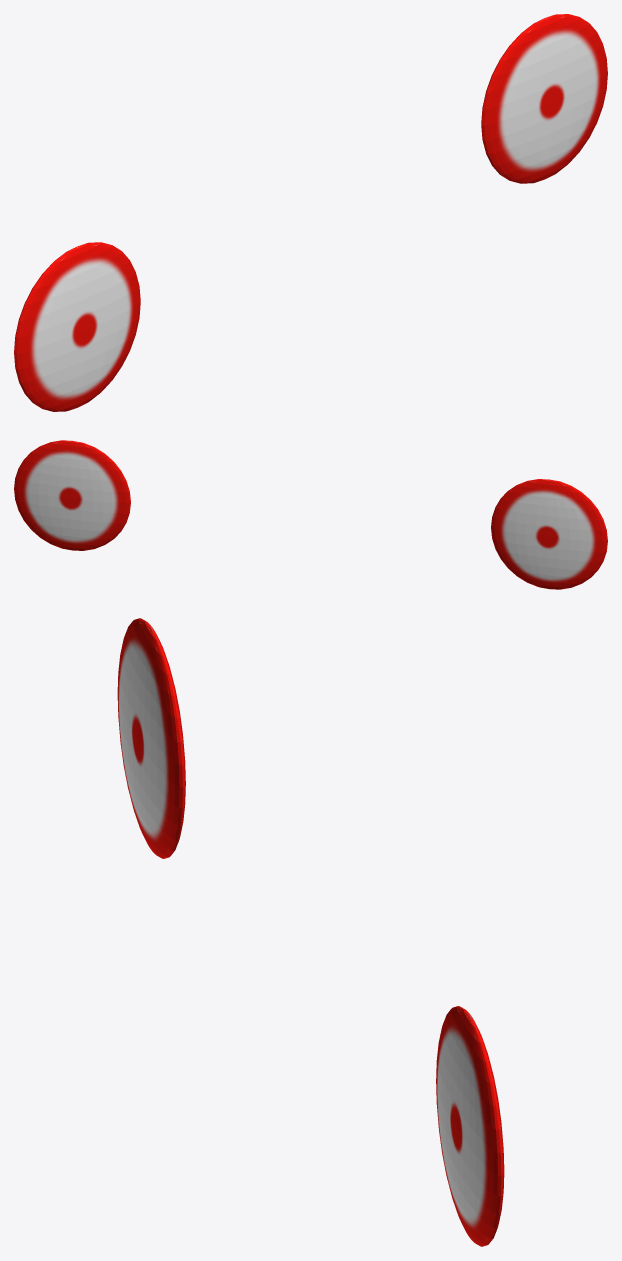
The model's file is 2targs.glb.
3 views of the same model, one above another, from view 1: azimuth 30°, elevation 25°; view 2: azimuth 150°, elevation 25°; view 3: azimuth 270°, elevation 25° (orthographic). The views are drawn at different scales.
Parts seen in each view (by area): view 1: Sphere.001, Sphere.002; view 2: Sphere.001, Sphere.002; view 3: Sphere.001, Sphere.002.
Boxes of the visible parts, left/top/right/bottom form: Sphere.001: left=481, top=14, right=607, bottom=183; Sphere.002: left=14, top=242, right=140, bottom=411; Sphere.001: left=14, top=440, right=130, bottom=550; Sphere.002: left=491, top=479, right=607, bottom=589; Sphere.001: left=436, top=1006, right=504, bottom=1246; Sphere.002: left=117, top=618, right=185, bottom=858.
Bounding box in the file's own units: 4.98 × 1.05 × 1.67.
2 materials, 2 textured.
